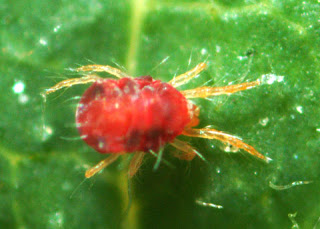Mites: (42, 50, 281, 191)
